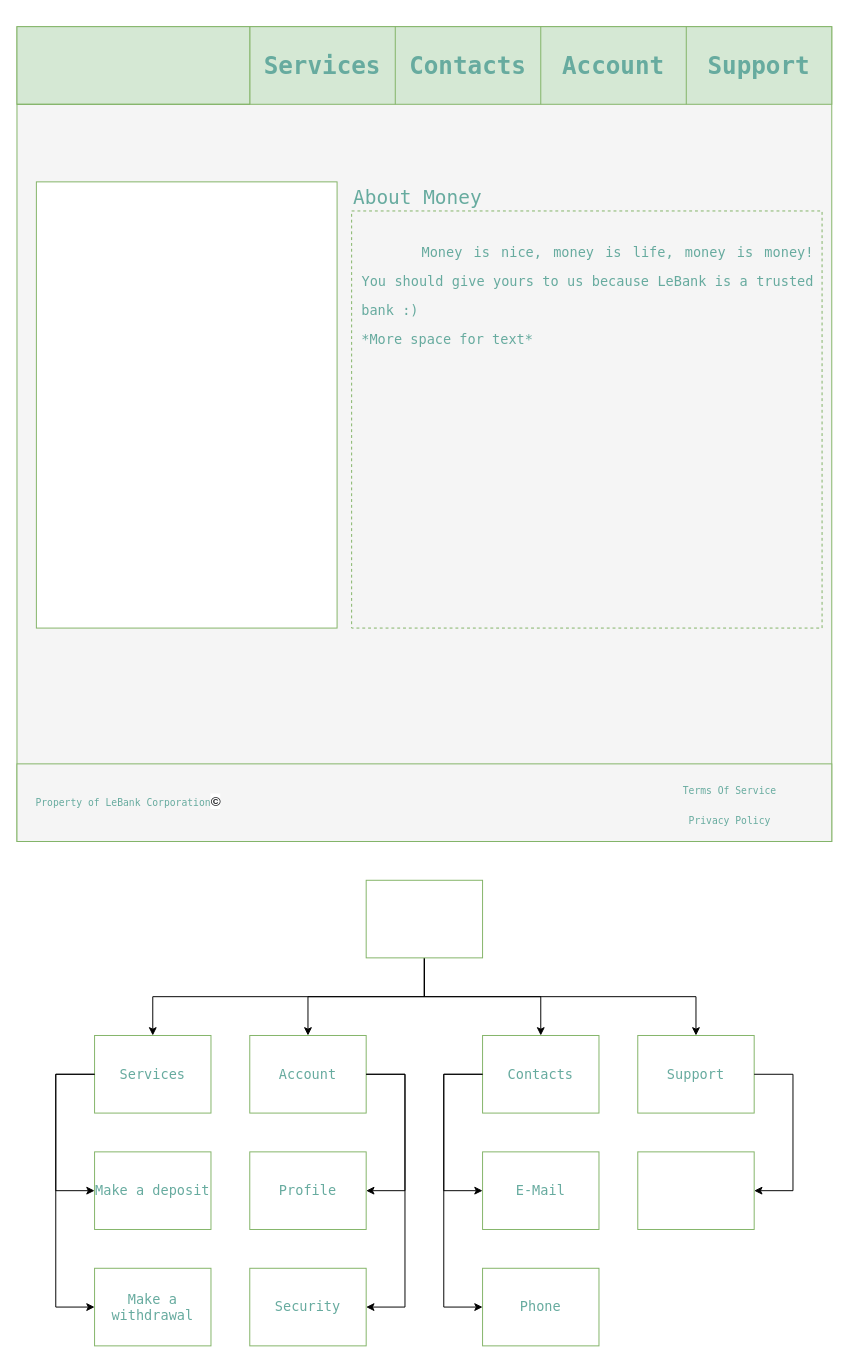
This 858x1363 diagram has some shape labels left out. The box of each missing label's shape, as (x1, y1, x2, y2) in pixels:
*Fantastic Picture*: (35, 181, 337, 628)
FaQ: (637, 1151, 754, 1229)
Home: (365, 879, 483, 958)
LeBank: (16, 26, 250, 104)
